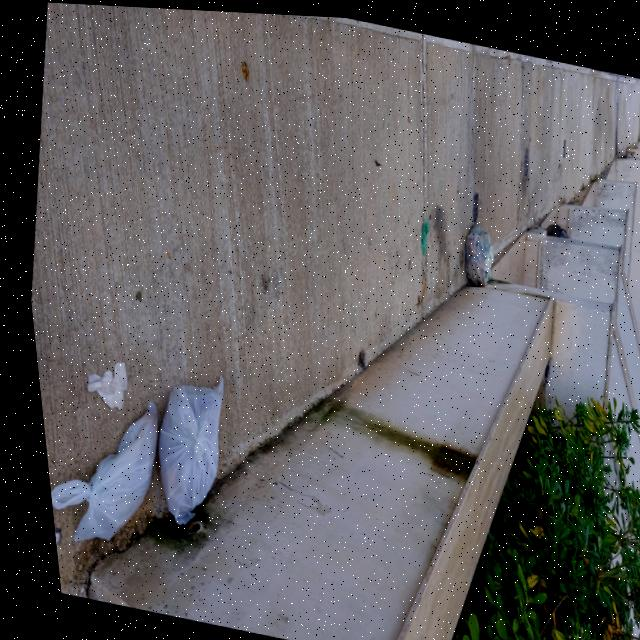Organic Waste -White Bag-: (32, 379, 165, 561), (130, 362, 237, 540), (447, 204, 505, 289)
